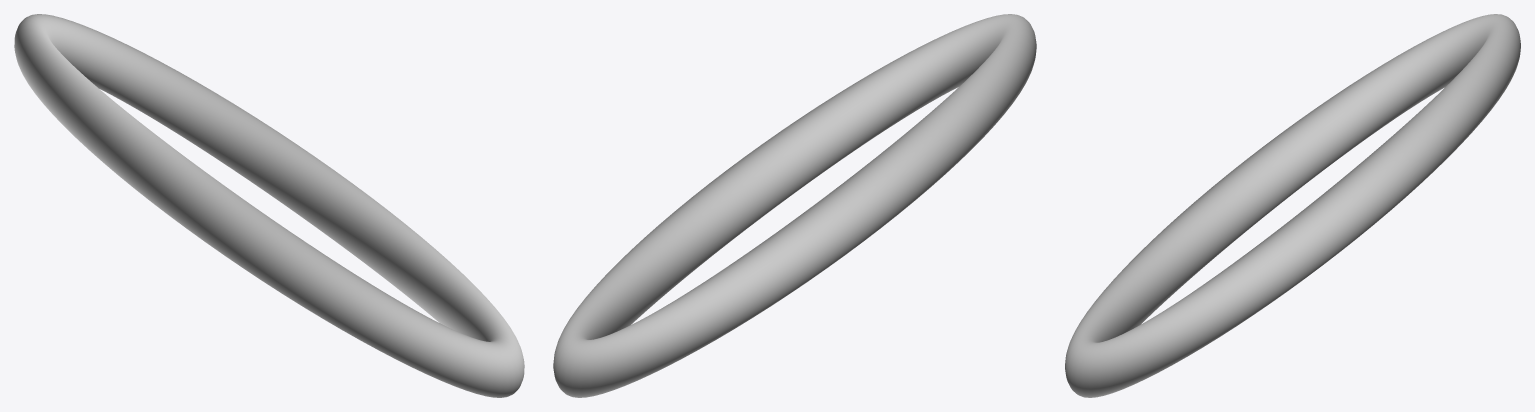
The model's file is dipol.glb.
3 views of the same model, side by side, from view 1: azimuth 30°, elevation 25°; view 2: azimuth 150°, elevation 25°; view 3: azimuth 330°, elevation 25° (orthographic). The views are drawn at different scales.
Visible parts, largest first — view 1: mesh_id119; view 2: mesh_id119; view 3: mesh_id119.
Part boxes in pixels (x1,y1,x2,y2): mesh_id119: (14,14,524,397); mesh_id119: (553,14,1036,397); mesh_id119: (1065,14,1520,397).
Bounding box in the file's own units: 0.0472 × 0.0193 × 0.2591.
1 material, 1 textured.
